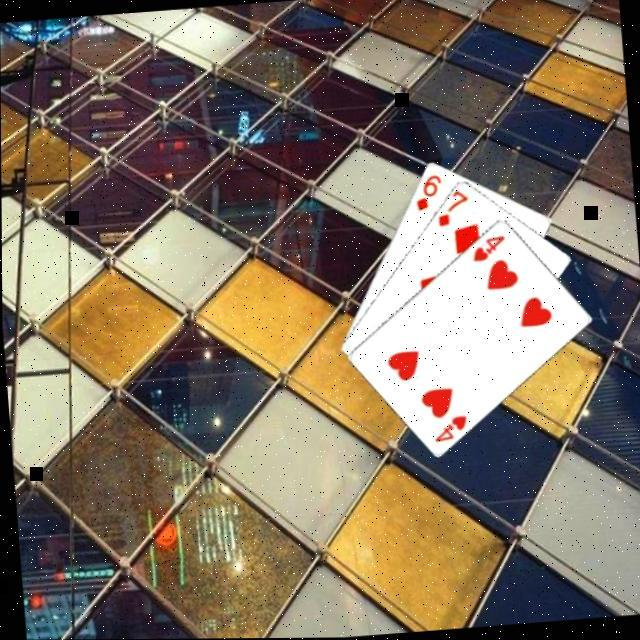4H: (431, 410, 472, 443), (469, 230, 510, 262)
6D: (412, 168, 447, 212)
7D: (434, 185, 474, 228)
